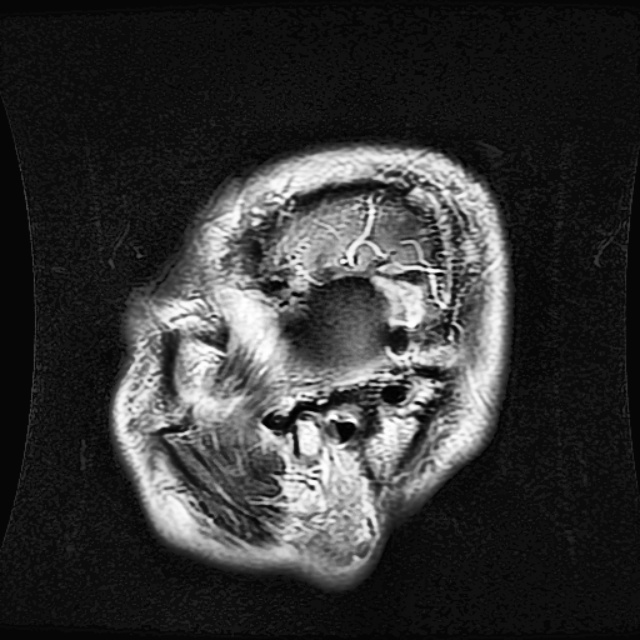Meningioma: (284, 268, 410, 373)
